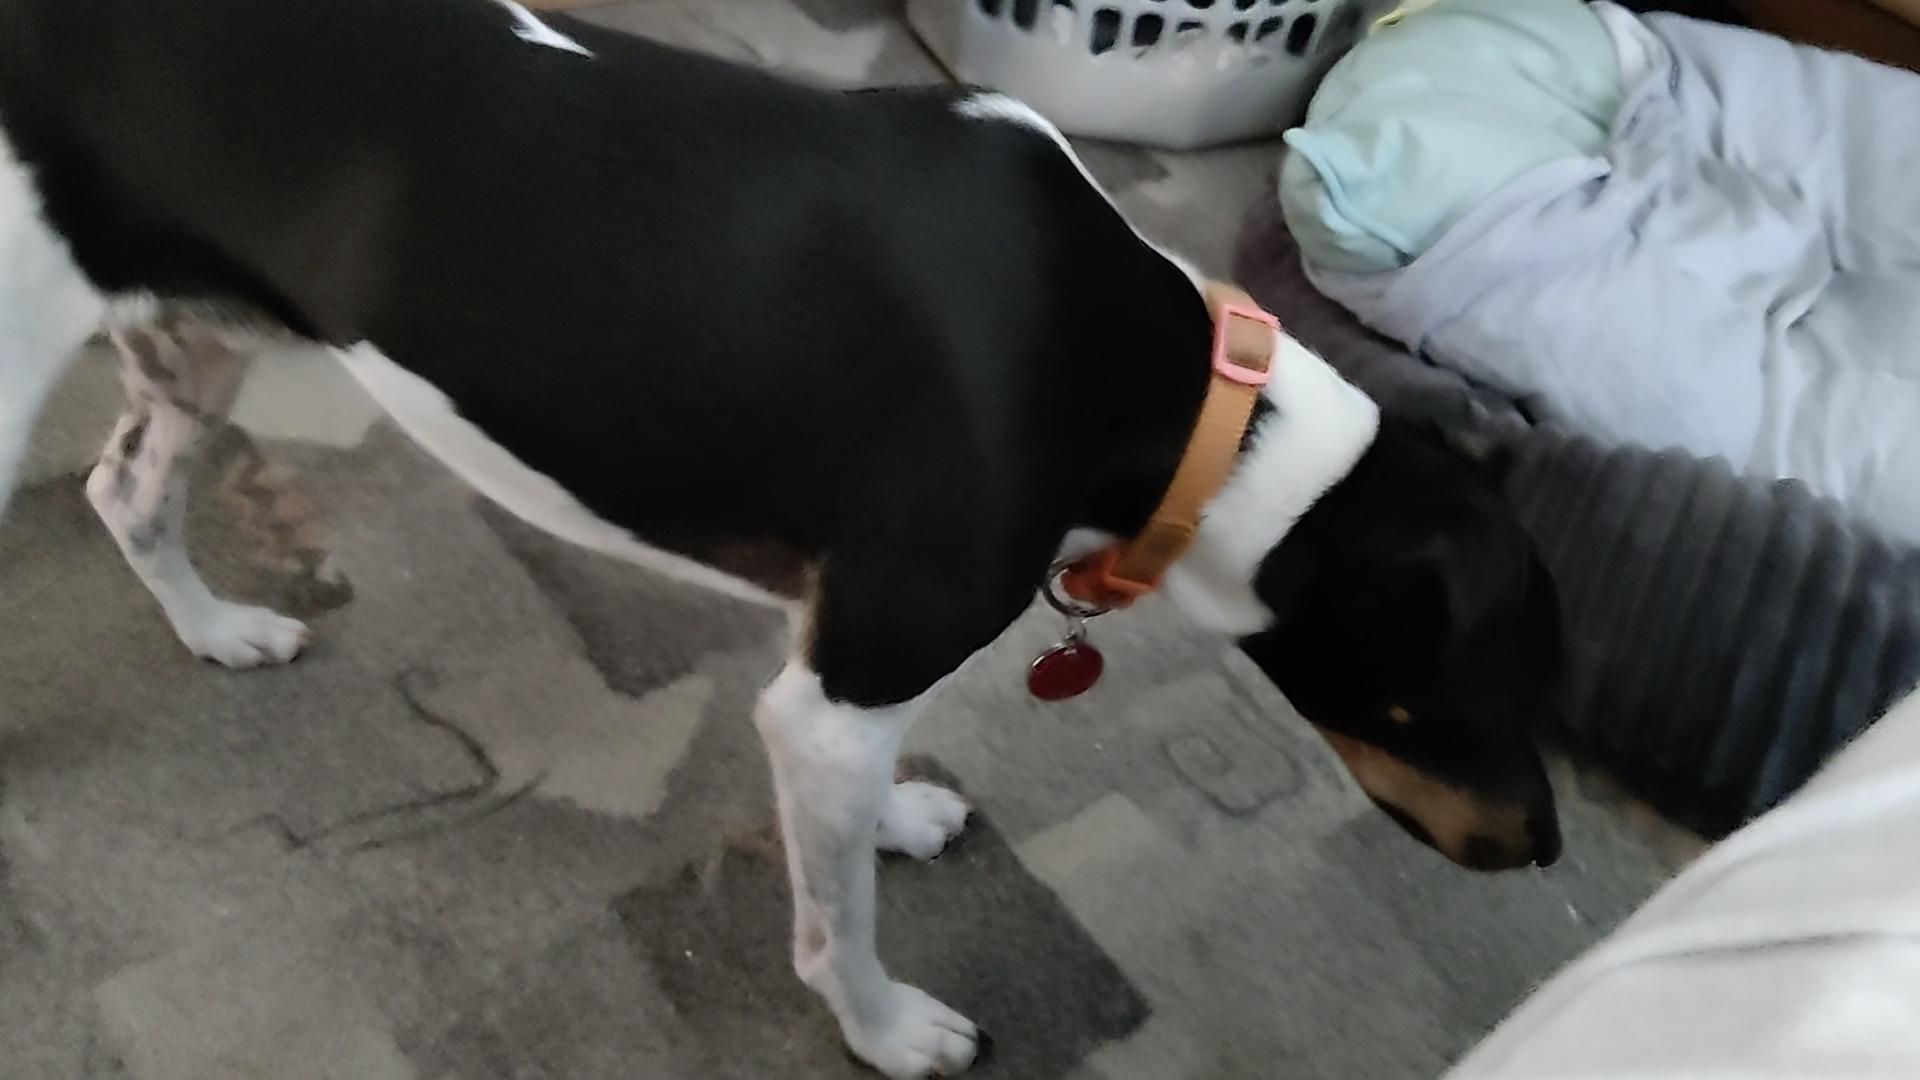Dog: (0, 0, 1584, 1079)
